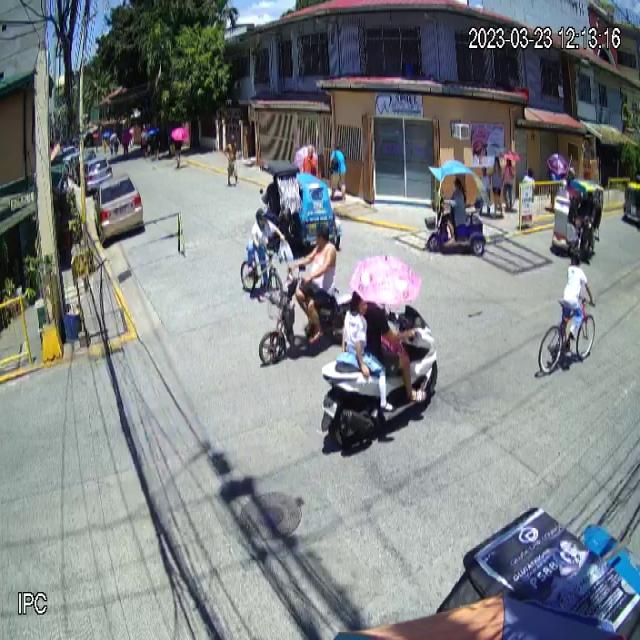Car: (93, 172, 144, 244)
Motorcycle: (319, 300, 439, 461)
Tricycle: (260, 158, 338, 261), (551, 174, 604, 266)
